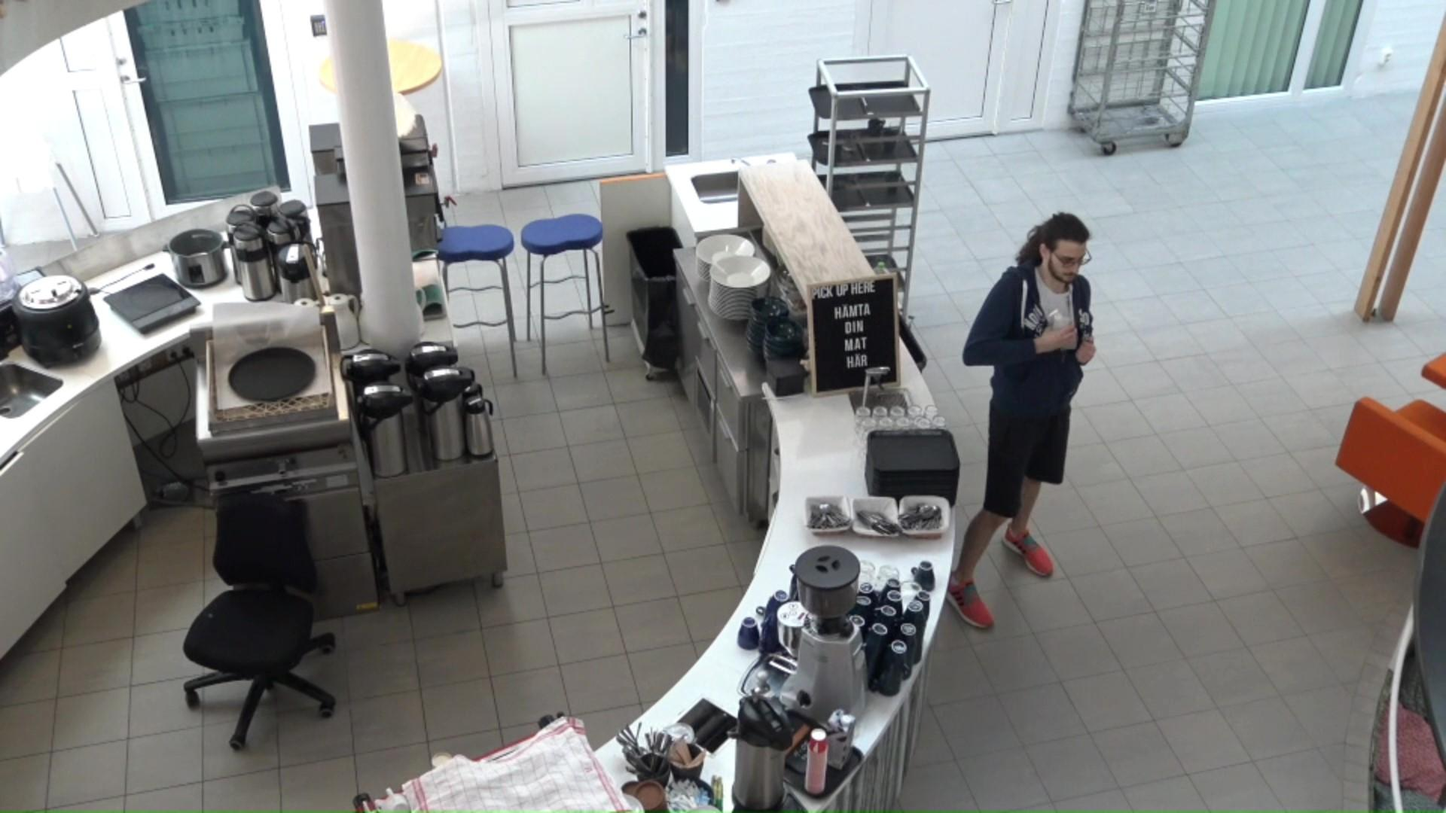shoplifting: (950, 211, 1096, 631)
